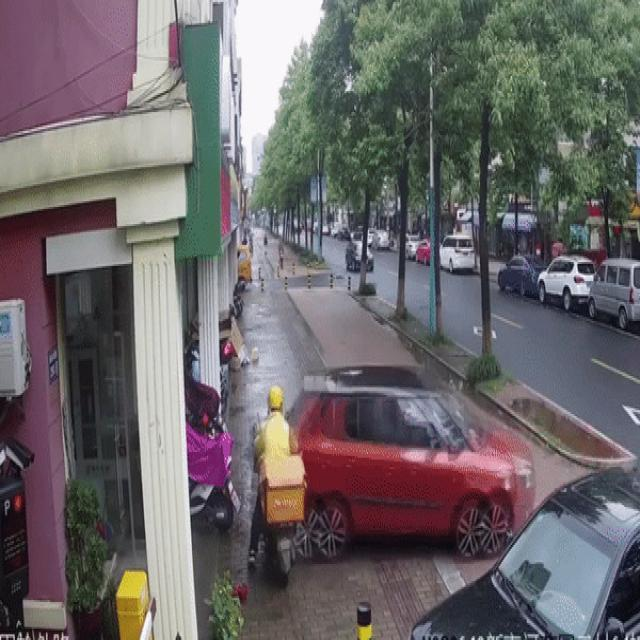multiple_accident: (245, 352, 538, 593)
